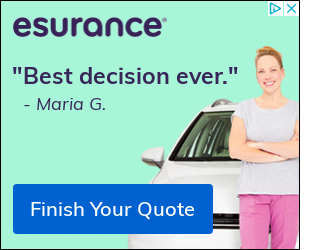fake_button: (7, 180, 220, 245)
